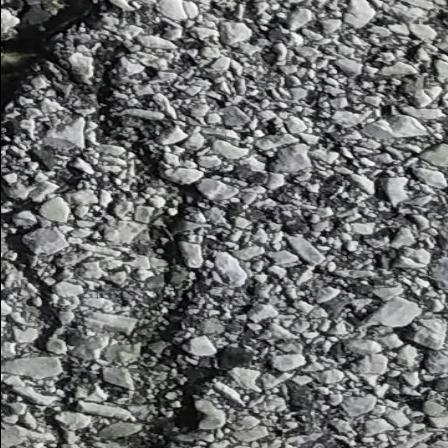crack: (82, 38, 228, 448), (0, 203, 99, 448), (0, 2, 109, 122)
